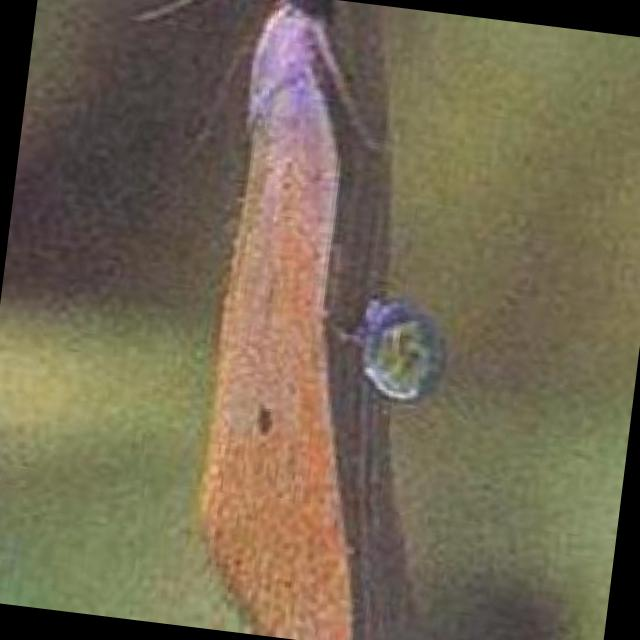stem-borer: (175, 0, 399, 640)
